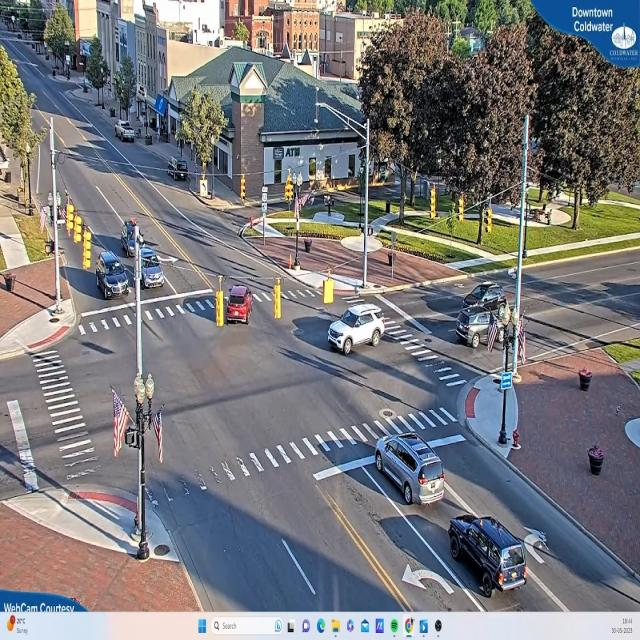car: (450, 515, 532, 595), (374, 432, 445, 506), (328, 302, 384, 355), (94, 247, 127, 302), (456, 311, 501, 350), (138, 241, 164, 292), (224, 288, 256, 326), (117, 122, 137, 144)
